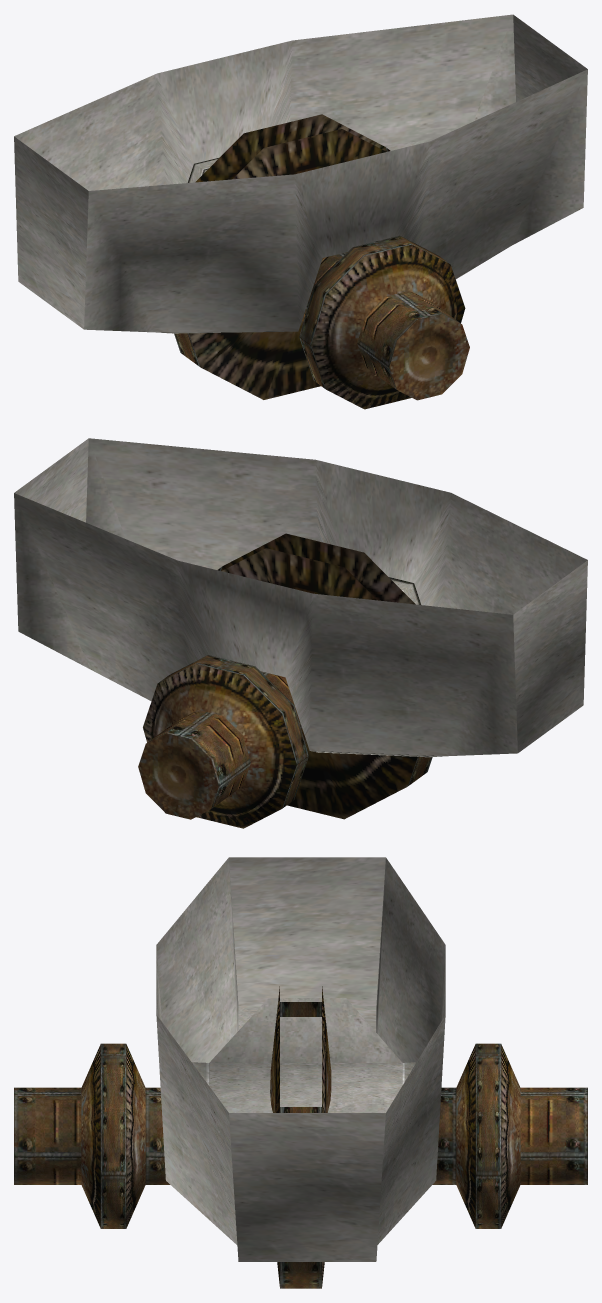
File: DWARF_PALACE_PULLIES.fbx
The picture shows the model from 3 angles, top to bottom: view 1: azimuth 30°, elevation 25°; view 2: azimuth 150°, elevation 25°; view 3: azimuth 270°, elevation 25°; orthographic projection. The views are drawn at different scales.
Visible parts, largest first — view 1: DWARF_PALACE_PULLIES; view 2: DWARF_PALACE_PULLIES; view 3: DWARF_PALACE_PULLIES.
Boxes of the visible parts, x1,y1,x2,y2 form: DWARF_PALACE_PULLIES: [14, 14, 587, 409]; DWARF_PALACE_PULLIES: [14, 438, 587, 828]; DWARF_PALACE_PULLIES: [14, 857, 587, 1288].
Bounding box in the file's own units: 39321 × 20737 × 37277.
Materials: 5 (5 with a texture image).
